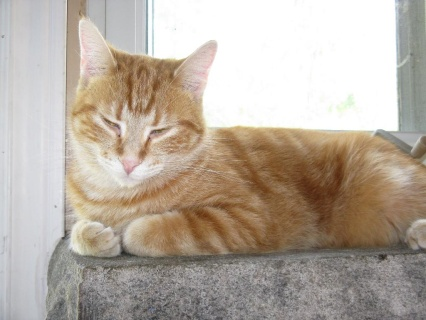Cat: (61, 13, 426, 256)
